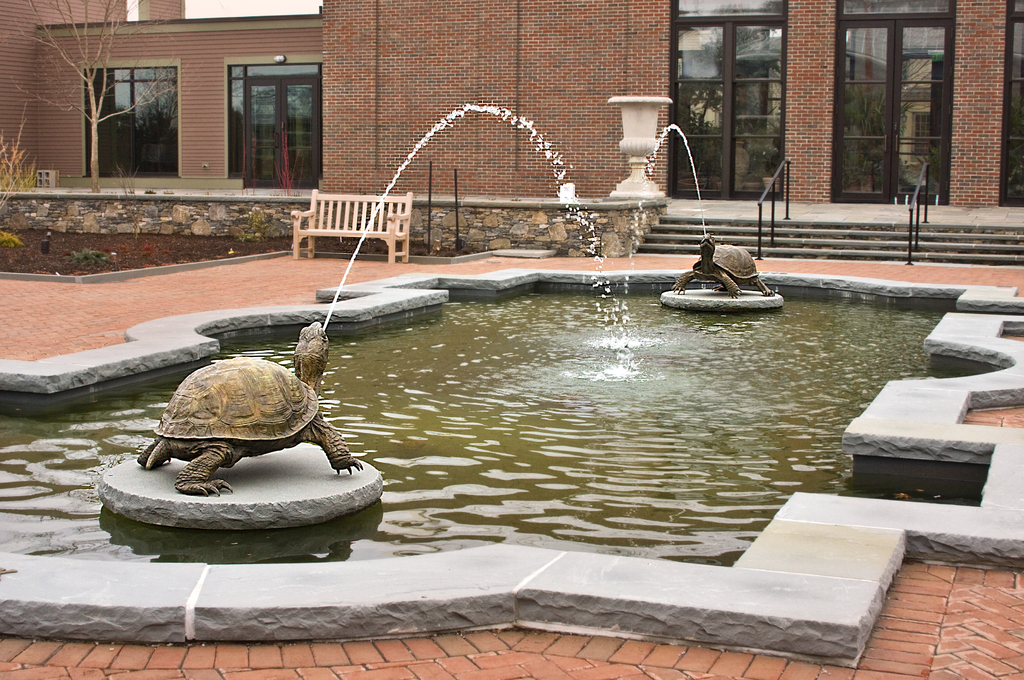Sea turtles: (136, 323, 364, 490), (671, 233, 773, 299)
